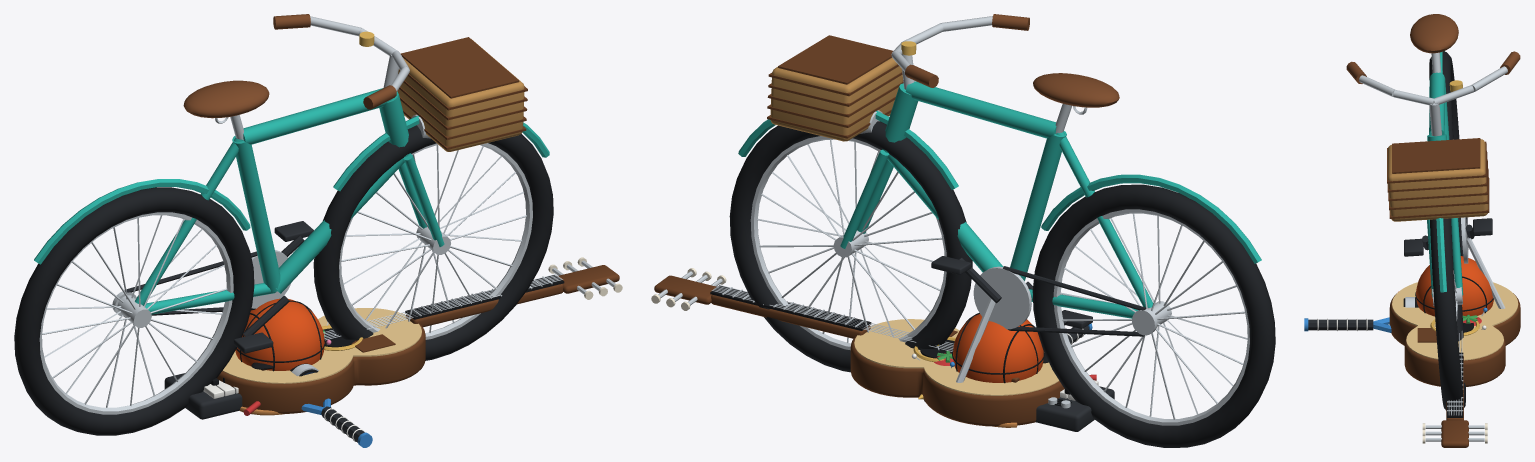
File: props.glb
3 renders of one model, left to right at view 1: azimuth 30°, elevation 25°; view 2: azimuth 150°, elevation 25°; view 3: azimuth 270°, elevation 25°, orthographic. The views are drawn at different scales.
Visible parts, largest first — view 1: prop_bike, prop_guitar, prop_basketball, prop_piano, prop_tennis; view 2: prop_bike, prop_guitar, prop_basketball, prop_piano; view 3: prop_bike, prop_guitar, prop_basketball, prop_tennis.
Boxes of the visible parts, x1,y1,x2,y2 form: prop_bike: (14, 14, 553, 435); prop_guitar: (217, 257, 622, 413); prop_basketball: (235, 298, 325, 371); prop_piano: (164, 373, 242, 419); prop_tennis: (301, 398, 372, 447); prop_bike: (729, 14, 1275, 447); prop_guitar: (651, 268, 1064, 426); prop_basketball: (952, 313, 1044, 383); prop_piano: (1036, 380, 1114, 431); prop_bike: (1346, 14, 1520, 410); prop_guitar: (1389, 282, 1520, 447); prop_basketball: (1415, 256, 1493, 316); prop_tennis: (1304, 317, 1391, 332).
Size of the model in its own units: 1.85 by 1.02 by 0.6609.
